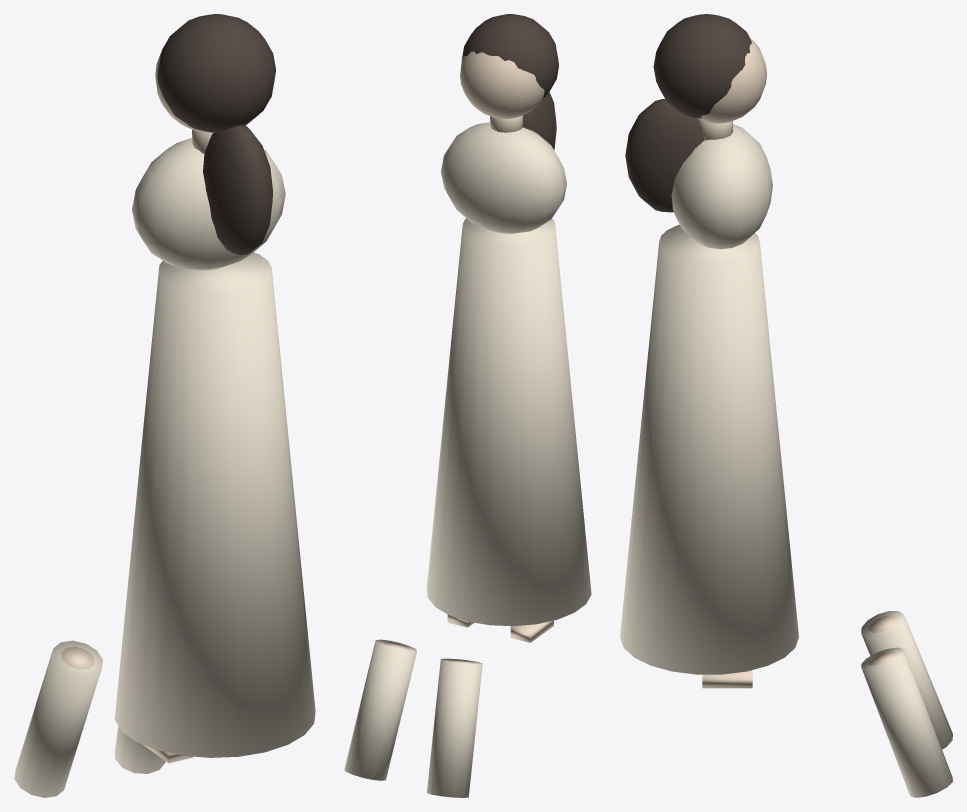
The model's file is woman.glb.
3 renders of one model, left to right at view 1: azimuth 30°, elevation 25°; view 2: azimuth 150°, elevation 25°; view 3: azimuth 270°, elevation 25°, orthographic. The views are drawn at different scales.
Parts seen in each view (by area): view 1: Robe, Hair, Chest, RSleeve, HairFall, LSleeve, RForearm; view 2: Robe, Chest, LSleeve, RSleeve, Hair, Head, HairFall, LFoot, Neck; view 3: Robe, Chest, Hair, LSleeve, HairFall, RSleeve, Head, RFoot.
Part boxes in pixels (x1,y1,x2,y2): Robe: (114,252,315,757); Hair: (157,14,275,132); Chest: (132,138,285,270); RSleeve: (14,640,102,797); HairFall: (203,125,272,254); LSleeve: (115,726,165,773); RForearm: (61,646,94,669); Robe: (426,218,591,626); Chest: (441,122,566,233); LSleeve: (344,639,416,780); RSleeve: (427,658,482,797); Hair: (461,14,558,99); Head: (460,51,544,118); HairFall: (523,92,556,149); LFoot: (510,620,553,642); Neck: (490,115,522,132); Robe: (620,224,798,674); Chest: (671,124,772,249); Hair: (653,14,751,118); LSleeve: (861,647,952,797); HairFall: (625,99,704,212); RSleeve: (861,611,952,749); Head: (697,38,766,123); RFoot: (702,670,752,688).
Size of the model in its own units: 0.296 by 1.39 by 0.5562.
